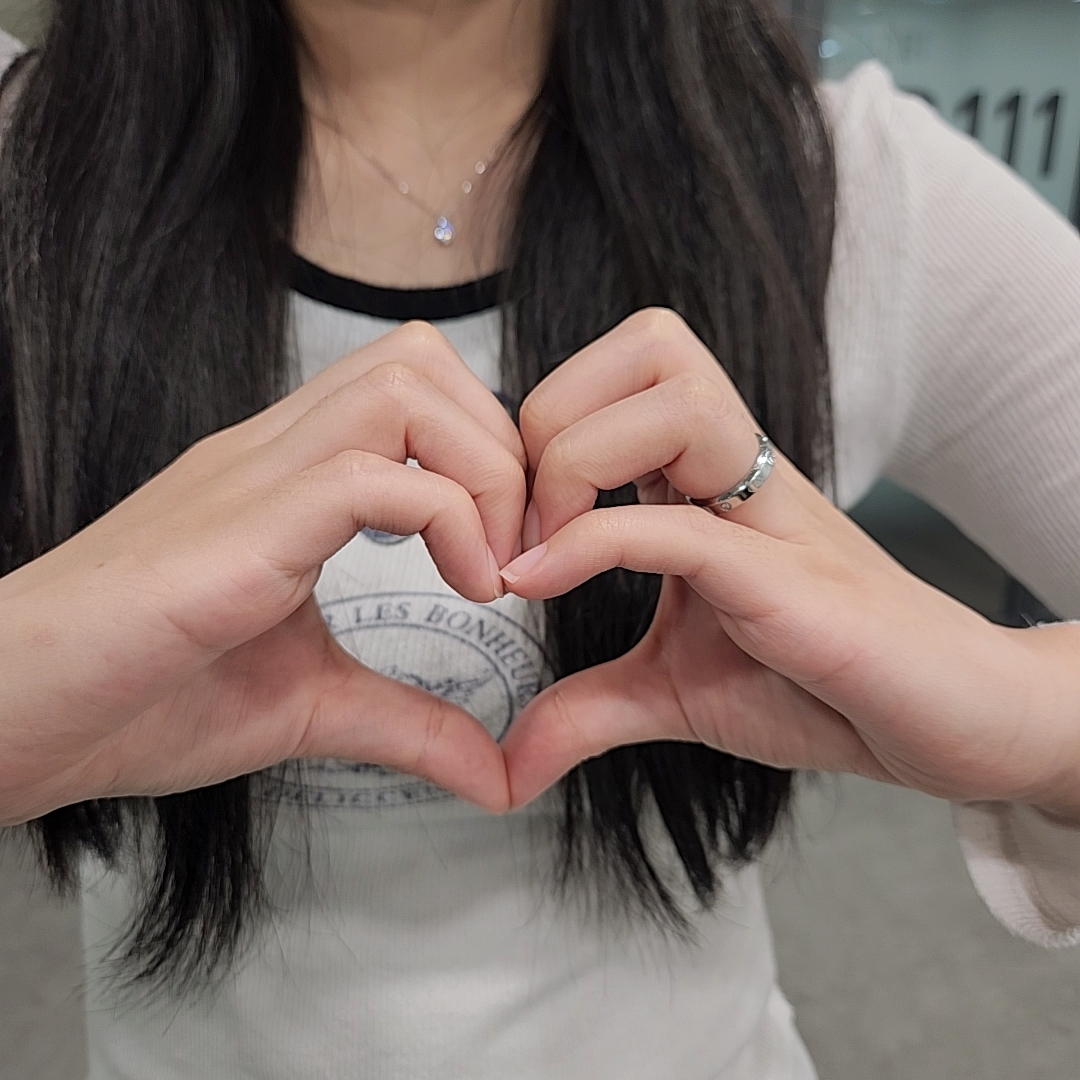heart: (42, 304, 999, 819)
